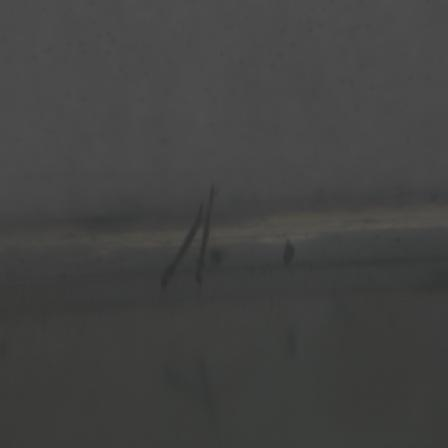Jentik-Nyamuk: (156, 179, 219, 291)
